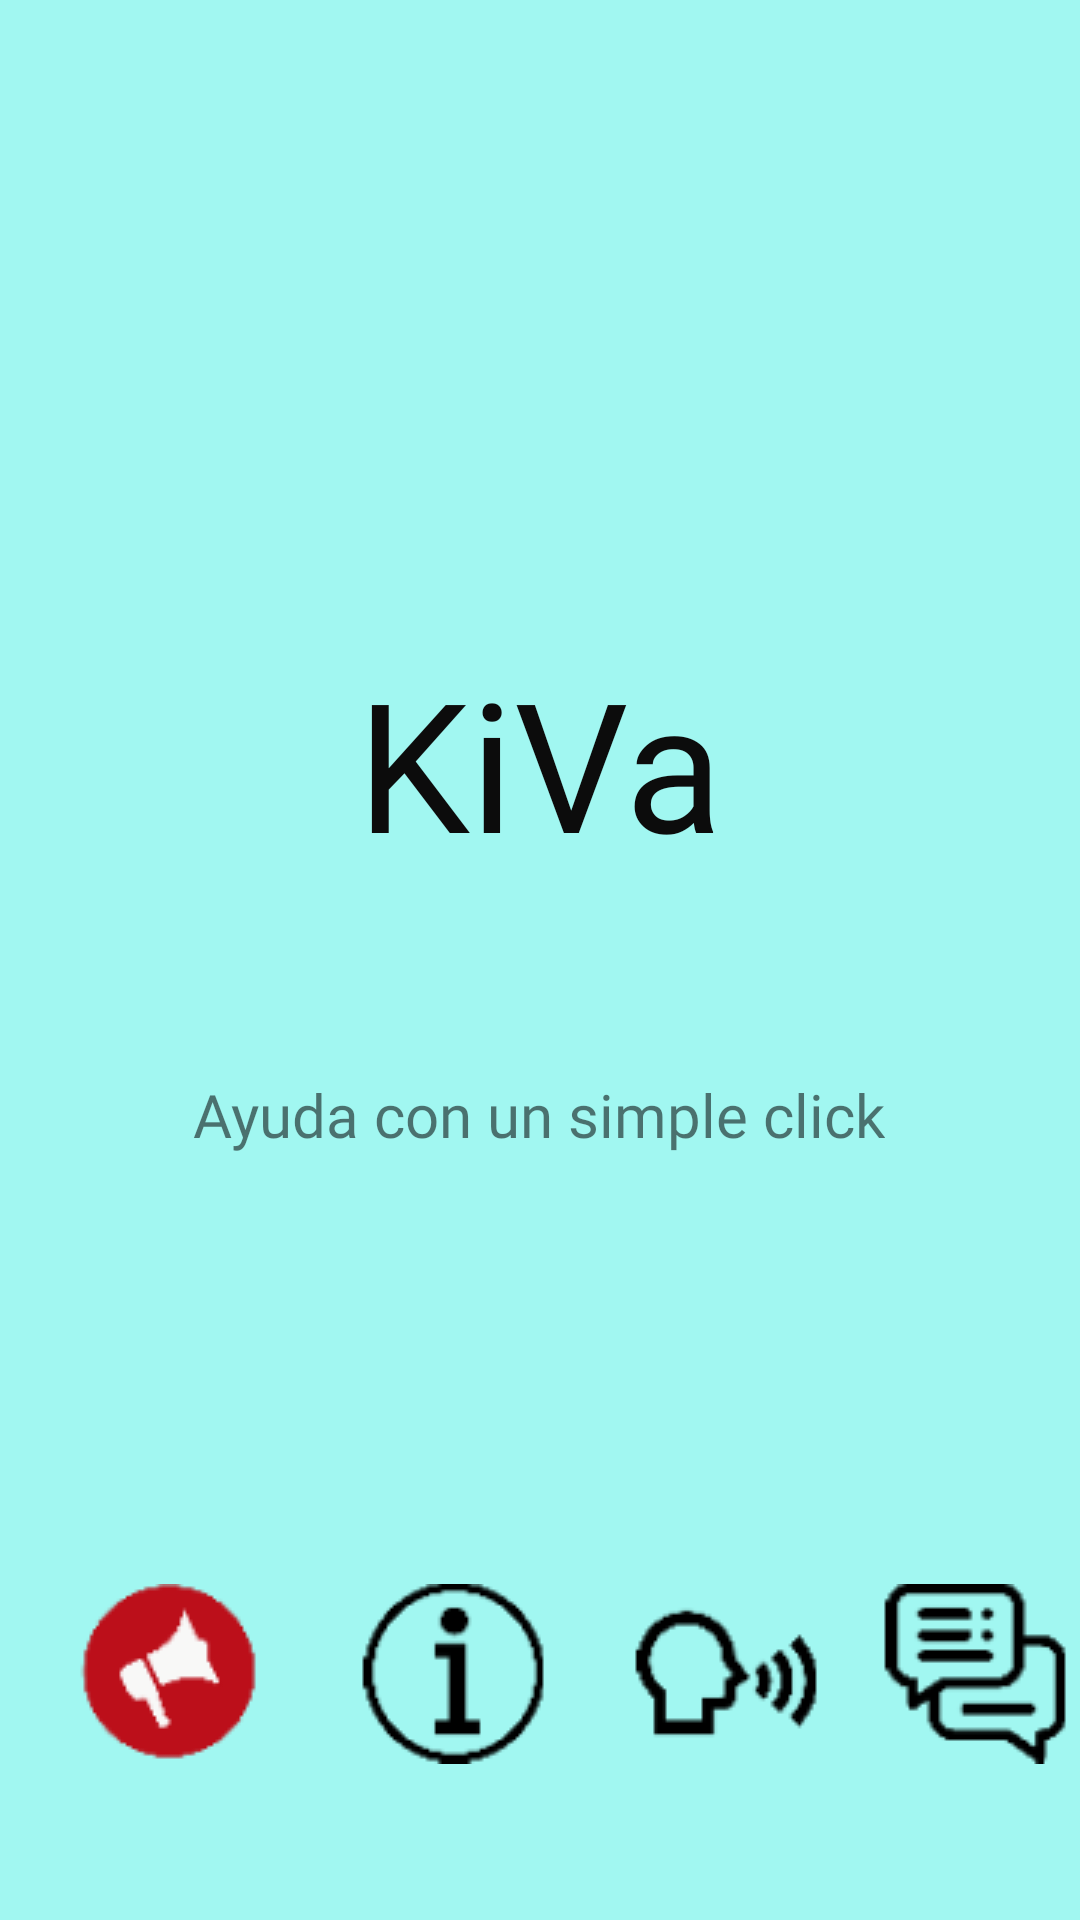

Icons on this 1080w x 1920h Android screen, each with the point to tap as (x=x, y=y):
informacion: (x=453, y=1674)
reporte: (x=168, y=1671)
